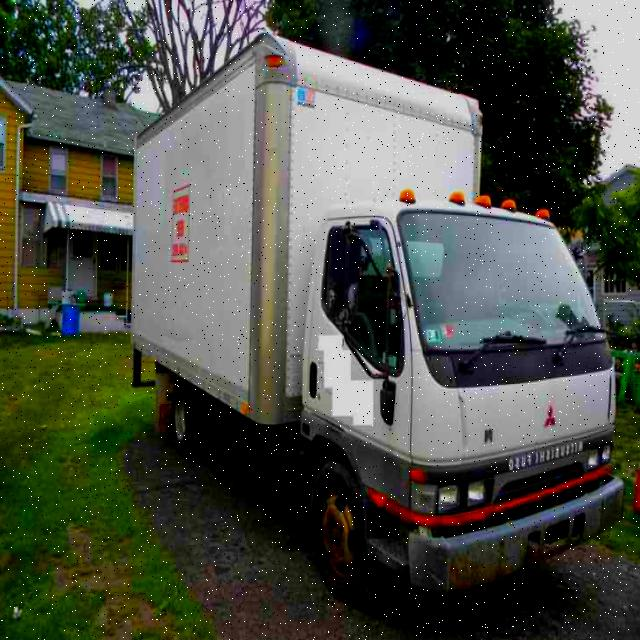truck: (131, 34, 627, 594)
